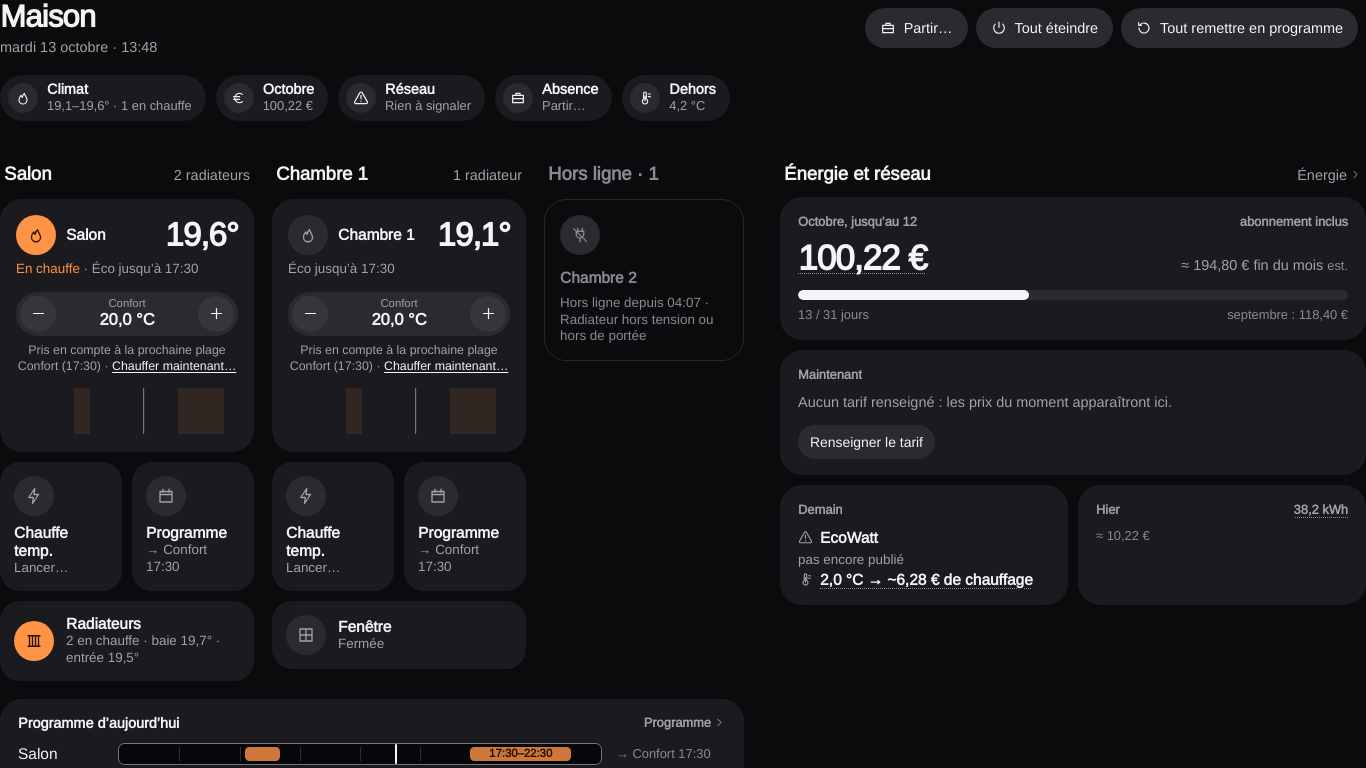
Test: Maison: the outdoor temperature (Plan 14) › shows the Dehors chip last in the row (it may answer late: CLS), with its Fiche: model, publié, attribution link
The image size is (1366, 768).
expect the element with class "cat" shows "Climat": met, box x1=47 y1=80 x2=88 y2=98
Click the button with class "cat" showing "Dehors 4,2 °C" at point(676, 98), box x1=622 y1=75 x2=730 y2=121
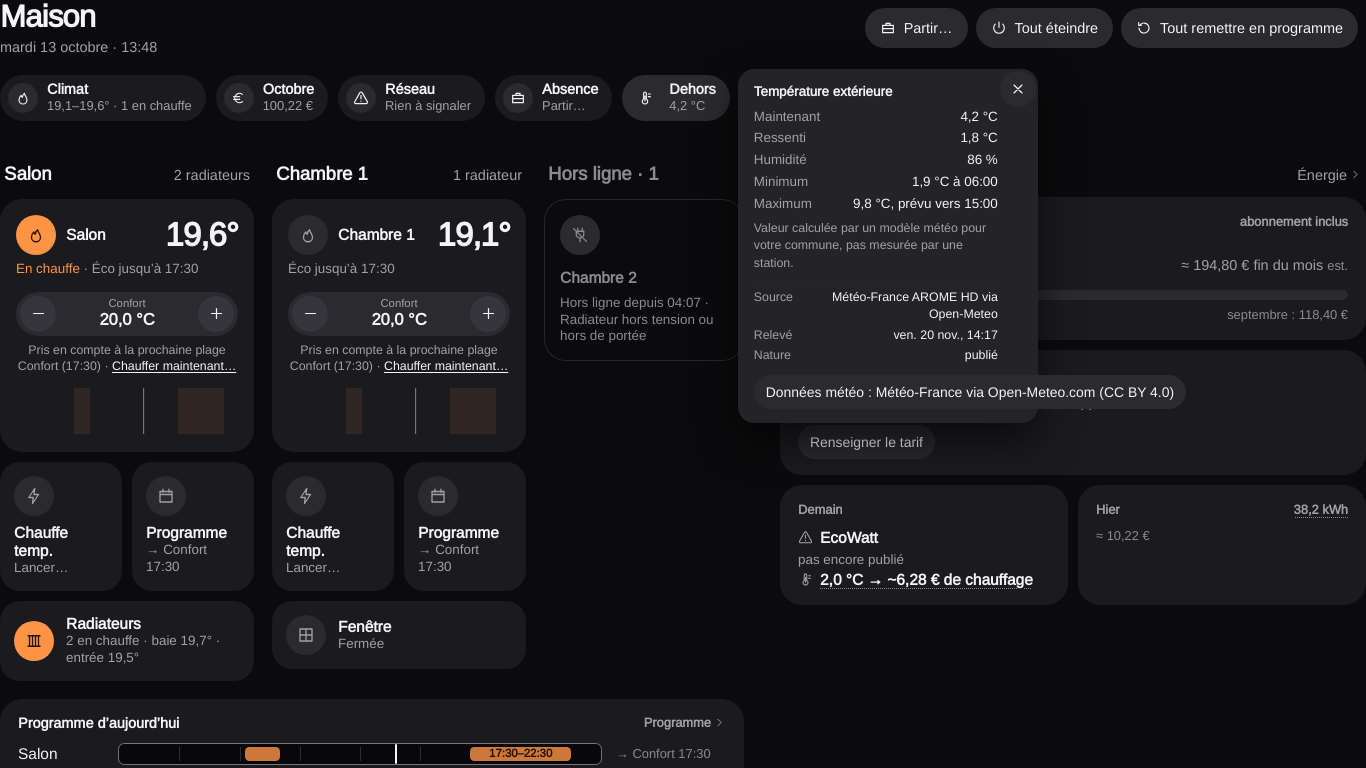
expect the text "Météo-France AROME HD via Open-Meteo" is shown: met, box x1=805 y1=289 x2=998 y2=324
expect the text "publié" is shown: met, box x1=965 y1=347 x2=998 y2=365
expect the text "9,8 °C, prévu vers 15:00" is shown: met, box x1=853 y1=195 x2=998 y2=214
